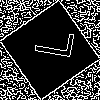L: (25, 25, 74, 61)
